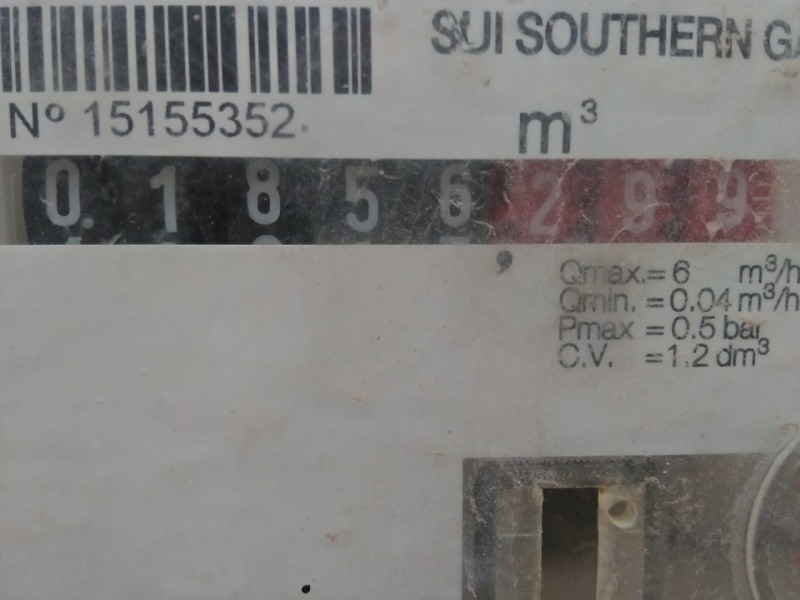ssgc: (11, 151, 786, 248)
